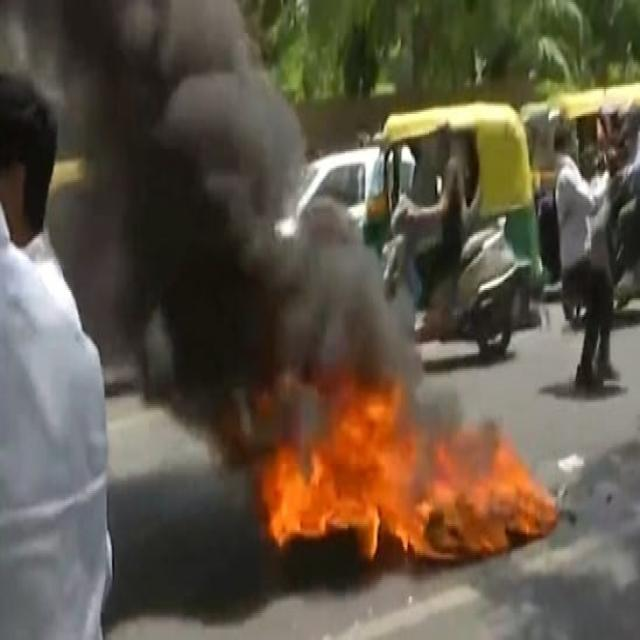fire: (262, 445, 560, 562), (329, 378, 404, 446)
